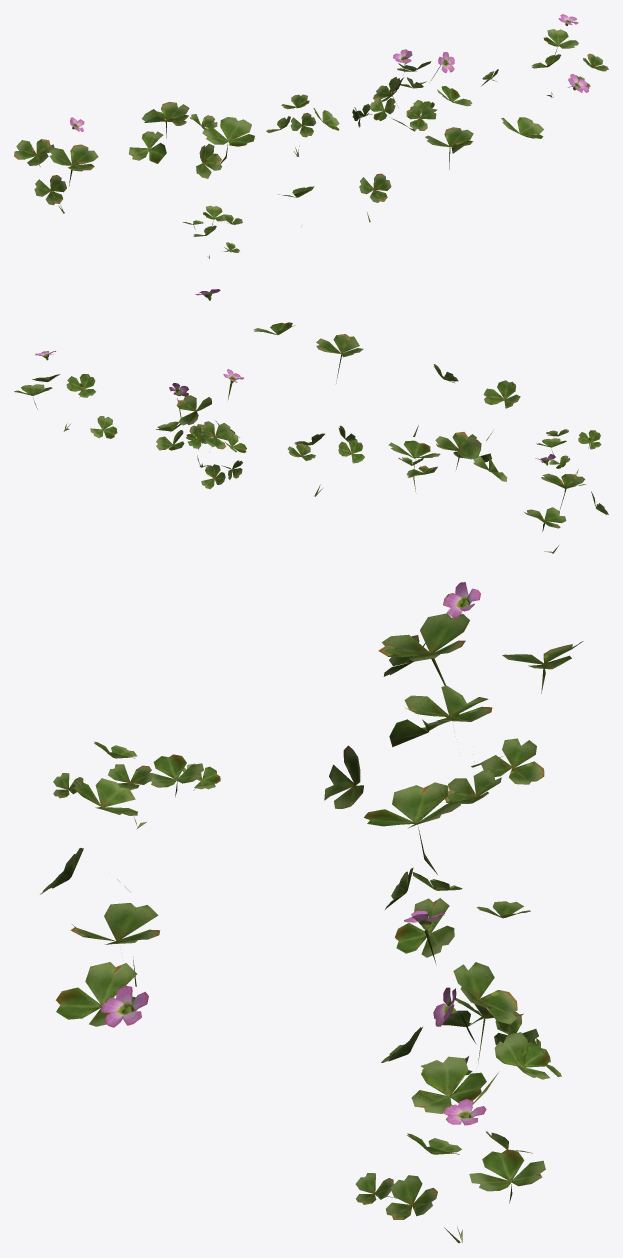
Rendered from ph_shrub_sorrel_01.glb.
3 views of the same model, one above another, from view 1: azimuth 30°, elevation 25°; view 2: azimuth 150°, elevation 25°; view 3: azimuth 270°, elevation 25° (orthographic). The views are drawn at different scales.
Parts seen in each view (by area): view 1: shrub_sorrel_01_b, shrub_sorrel_01_d, shrub_sorrel_01_a, shrub_sorrel_01_e, shrub_sorrel_01_c, shrub_sorrel_01_f, shrub_sorrel_01_i, shrub_sorrel_01_h, shrub_sorrel_01_j; view 2: shrub_sorrel_01_d, shrub_sorrel_01_b, shrub_sorrel_01_e, shrub_sorrel_01_a, shrub_sorrel_01_c, shrub_sorrel_01_f, shrub_sorrel_01_i, shrub_sorrel_01_g; view 3: shrub_sorrel_01_b, shrub_sorrel_01_d, shrub_sorrel_01_e, shrub_sorrel_01_a, shrub_sorrel_01_f, shrub_sorrel_01_c, shrub_sorrel_01_j, shrub_sorrel_01_i, shrub_sorrel_01_g, shrub_sorrel_01_k.
Boxes of the visible parts, bbox=[...] form: shrub_sorrel_01_b: bbox=[129, 102, 254, 178]; shrub_sorrel_01_d: bbox=[352, 49, 472, 131]; shrub_sorrel_01_a: bbox=[14, 117, 98, 213]; shrub_sorrel_01_e: bbox=[481, 14, 608, 97]; shrub_sorrel_01_c: bbox=[266, 94, 339, 156]; shrub_sorrel_01_f: bbox=[183, 205, 242, 259]; shrub_sorrel_01_i: bbox=[425, 127, 473, 169]; shrub_sorrel_01_h: bbox=[359, 173, 391, 222]; shrub_sorrel_01_j: bbox=[501, 117, 543, 138]; shrub_sorrel_01_d: bbox=[156, 369, 246, 489]; shrub_sorrel_01_b: bbox=[388, 432, 507, 493]; shrub_sorrel_01_e: bbox=[14, 351, 117, 438]; shrub_sorrel_01_a: bbox=[524, 454, 608, 553]; shrub_sorrel_01_c: bbox=[287, 425, 364, 496]; shrub_sorrel_01_f: bbox=[536, 429, 601, 475]; shrub_sorrel_01_i: bbox=[316, 334, 363, 383]; shrub_sorrel_01_g: bbox=[483, 380, 520, 441]; shrub_sorrel_01_b: bbox=[324, 685, 544, 874]; shrub_sorrel_01_d: bbox=[381, 910, 561, 1113]; shrub_sorrel_01_e: bbox=[355, 1099, 545, 1243]; shrub_sorrel_01_a: bbox=[378, 582, 583, 767]; shrub_sorrel_01_f: bbox=[53, 741, 220, 829]; shrub_sorrel_01_c: bbox=[385, 867, 530, 957]; shrub_sorrel_01_j: bbox=[56, 962, 136, 1026]; shrub_sorrel_01_i: bbox=[70, 903, 160, 944]; shrub_sorrel_01_g: bbox=[73, 778, 137, 892]; shrub_sorrel_01_k: bbox=[100, 985, 148, 1027].
Bounding box in the file's own units: 0.3521 × 0.0575 × 0.1464.
Materials: 1 (1 with a texture image).
